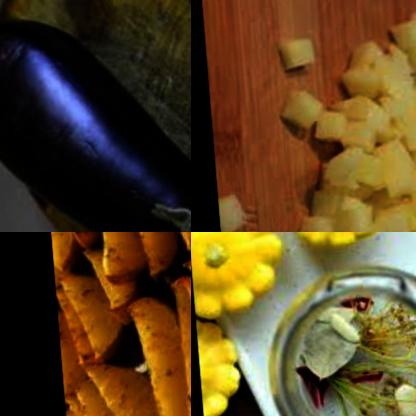eggplant: (0, 0, 191, 232)
garlic: (319, 311, 360, 352)
potato: (277, 2, 416, 232), (46, 232, 191, 416), (215, 194, 249, 232)
squash-patisson: (191, 232, 287, 325), (192, 315, 245, 416), (261, 232, 396, 260)
